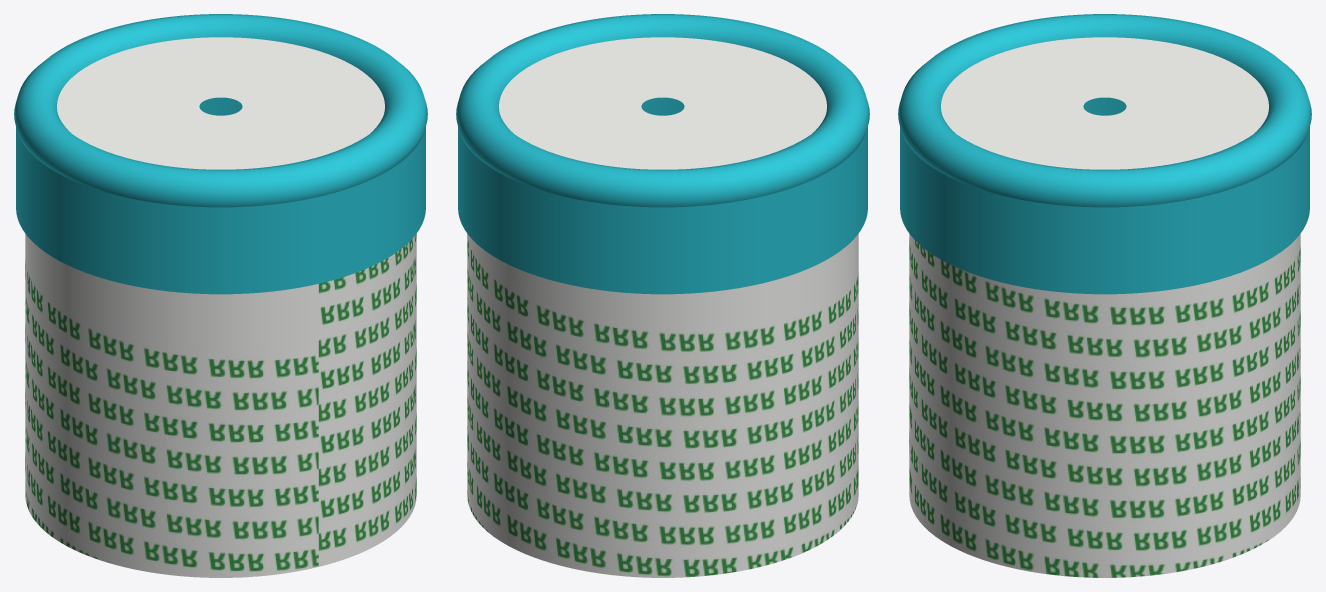
The picture shows the model from 3 angles, left to right: view 1: azimuth 30°, elevation 25°; view 2: azimuth 150°, elevation 25°; view 3: azimuth 270°, elevation 25°; orthographic projection.
Visible parts, largest first — view 1: M30-H114; view 2: M30-H114; view 3: M30-H114.
Boxes of the visible parts, <box> form: M30-H114: <box>14,14,427,577</box>; M30-H114: <box>456,14,869,577</box>; M30-H114: <box>898,14,1311,577</box>.
Size of the model in its own units: 0.11 by 0.1177 by 0.11.
Materials: 6 (1 with a texture image).
